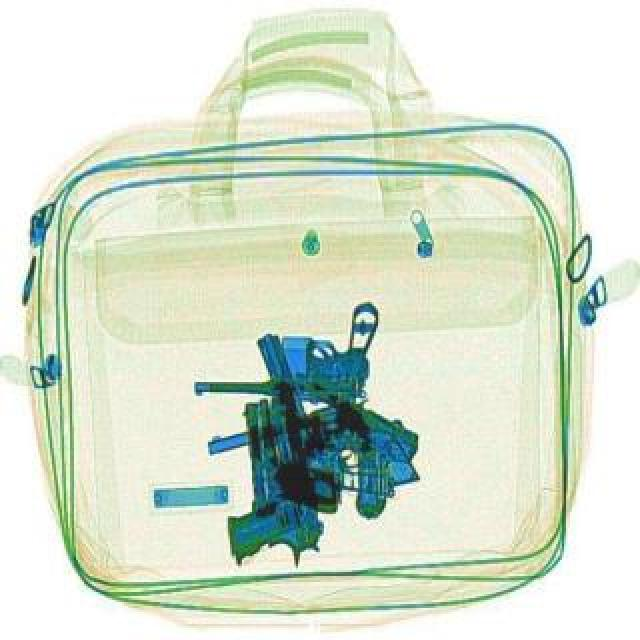gun: (204, 386, 424, 508), (206, 390, 326, 572), (194, 302, 378, 394), (262, 378, 338, 518)
